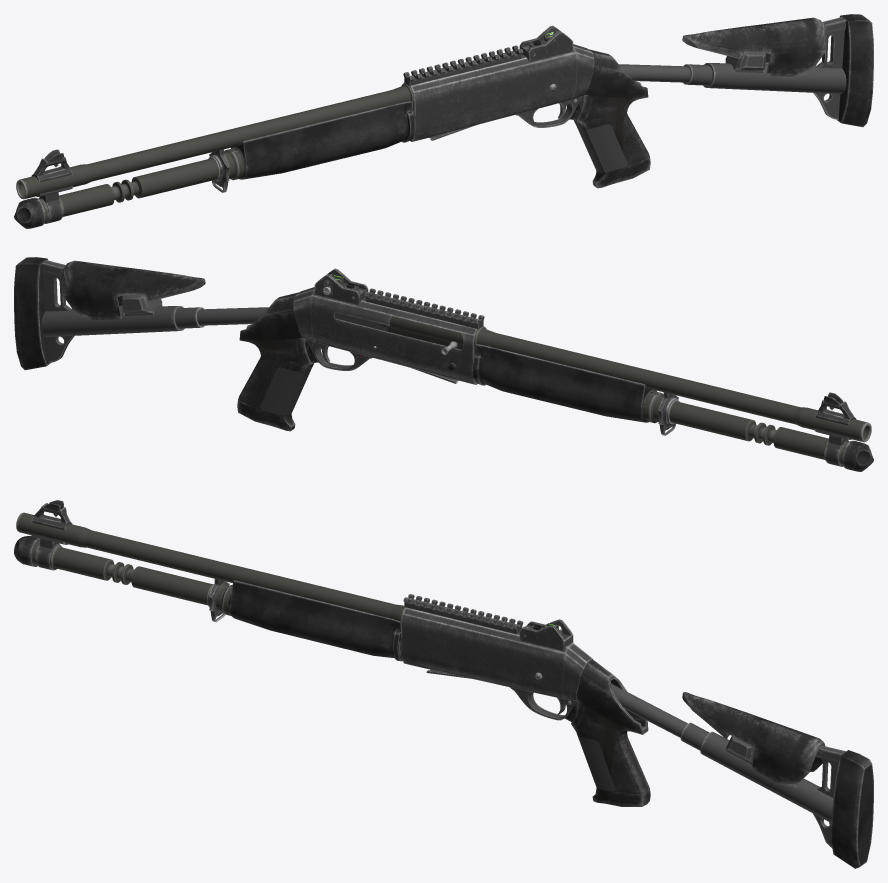
Rendered from shotgun-_benelli_m90_xm1014.glb.
3 views of the same model, one above another, from view 1: azimuth 30°, elevation 25°; view 2: azimuth 150°, elevation 25°; view 3: azimuth 330°, elevation 25° (orthographic).
Visible parts, largest first — view 1: g; view 2: g; view 3: g.
Boxes of the visible parts, x1=… form: g: x1=14, y1=14, x2=873, y2=228; g: x1=14, y1=257, x2=873, y2=471; g: x1=14, y1=500, x2=873, y2=868.
Size of the model in its own units: 2 by 0.3786 by 0.1056.
Materials: 1 (1 with a texture image).
